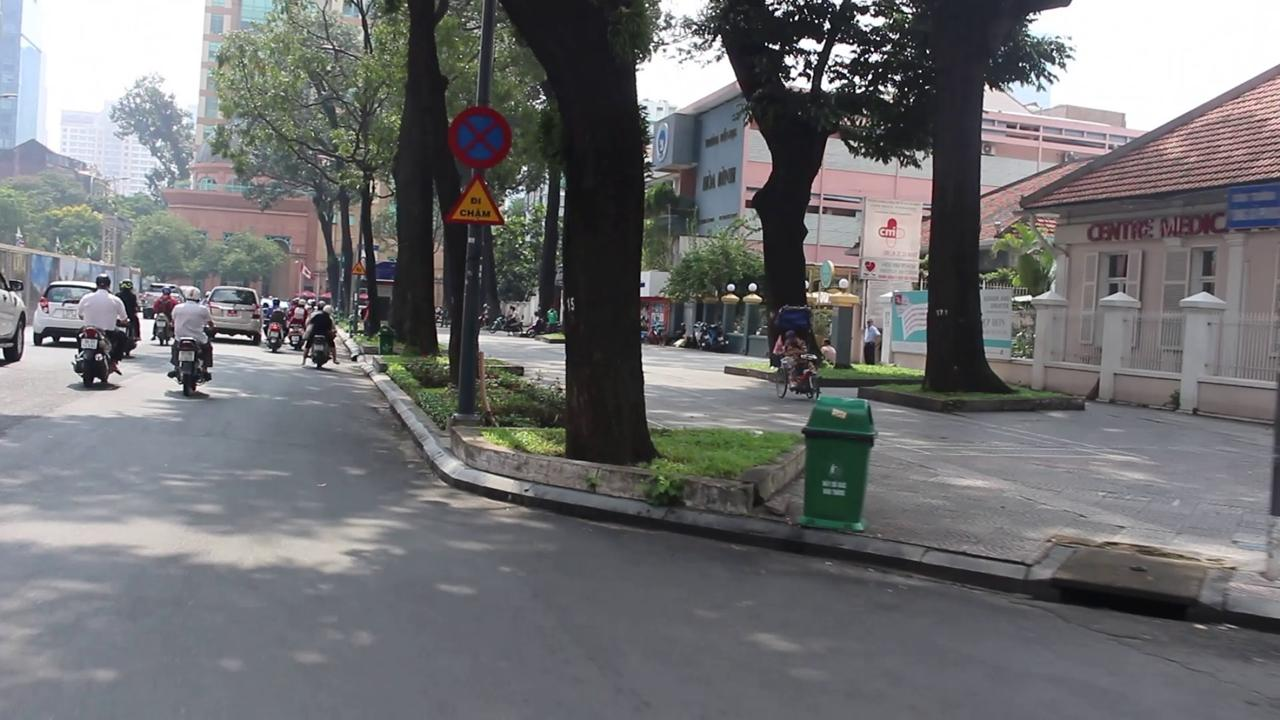P.103a: (446, 106, 512, 169)
R.301d: (446, 182, 507, 226)
